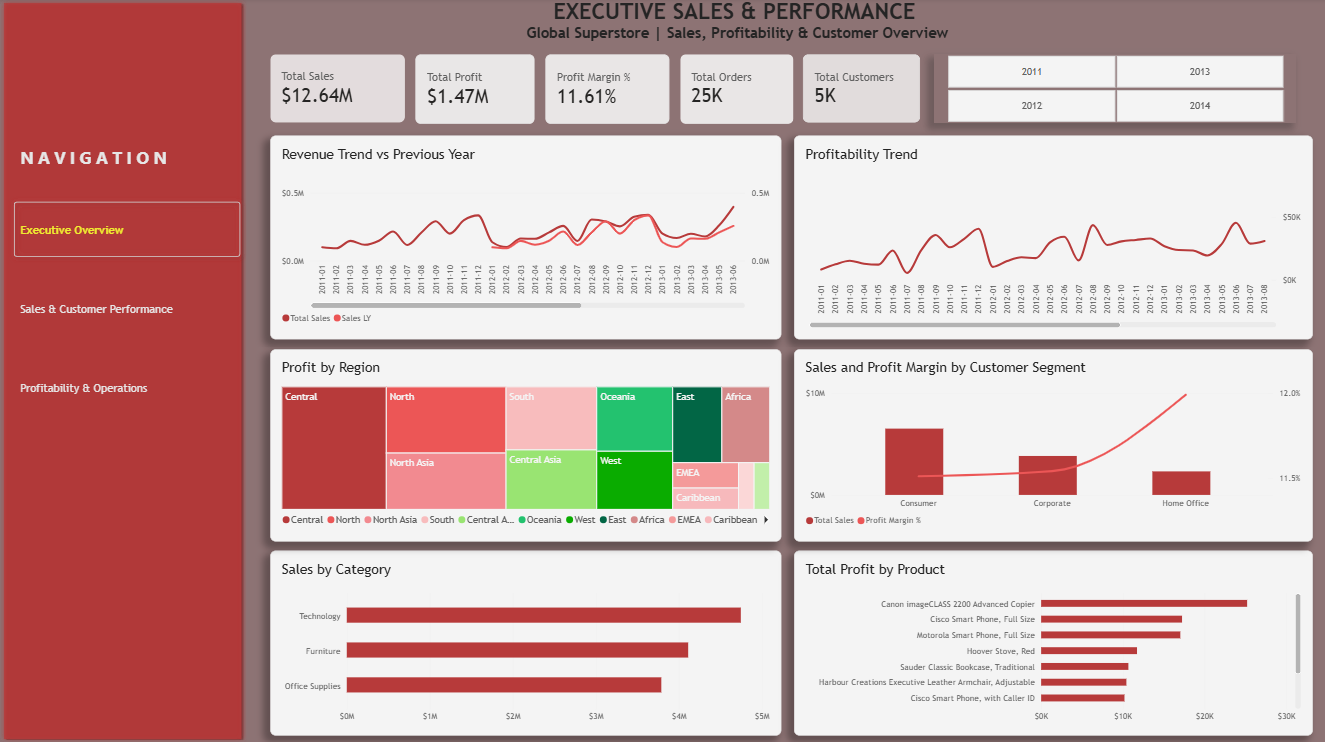

The dashboard page shown, as its layout file describes it:
{"tool":"powerbi","page":{"name":"Executive Overview","canvas":[1920,1080],"ordinal":0},"visuals":[{"type":"cardVisual","fields":{"Data":["_Measures.Total Sales"]},"box":[0,82.3,158.5,117.3],"z":0},{"type":"cardVisual","fields":{"Data":["_Measures.Total Profit"]},"box":[158.5,82.3,146.1,117.3],"z":1},{"type":"cardVisual","fields":{"Data":["_Measures.Profit Margin %"]},"box":[304.6,80.3,152.3,117.3],"z":2},{"type":"cardVisual","fields":{"Data":["_Measures.Total Orders"]},"box":[456.9,82.3,146.1,117.3],"z":3},{"type":"cardVisual","fields":{"Data":["_Measures.Total Customers"]},"box":[603.1,82.3,160.5,119.4],"z":4},{"type":"slicer","fields":{"Values":["DimDate.Year"]},"box":[763.6,82.3,574.3,142],"z":5},{"type":"lineChart","title":"Revenue Trend vs Previous Year","fields":{"Category":["DimDate.Year Month"],"Y":["_Measures.Total Sales"],"Y2":["_Measures.Sales LY"]},"box":[0,199.1,959.1,340.2],"z":6},{"type":"lineChart","title":"Profitability Trend","fields":{"Category":["DimDate.Year Month"],"Y":["_Measures.Total Profit"]},"box":[959.1,200.9,960.9,338.4],"z":7},{"type":"clusteredBarChart","title":"Sales by Category","fields":{"Y":["_Measures.Total Sales"],"Category":["DimProduct.Category"]},"box":[0,539.3,551.9,273.3],"z":8},{"type":"clusteredBarChart","title":"Profit by Region","fields":{"Category":["DimGeography.Region"],"Y":["_Measures.Total Profit"]},"box":[551.9,539.3,624.3,273.3],"z":9},{"type":"clusteredBarChart","fields":{"Category":["DimProduct.Product.Name"],"Y":["_Measures.Total Profit"]},"box":[0,812.5,1920.1,267.8],"z":10},{"type":"donutChart","title":"Sales by Customer Segment","fields":{"Category":["DimCustomer.Segment"],"Y":["_Measures.Total Sales"]},"box":[1176.3,539.3,743.8,273.3],"z":11},{"type":"textbox","box":[10.9,0,890.4,81.4],"z":14},{"type":"textbox","box":[1362.6,80.3,555.7,144.1],"z":15}]}

Visuals, with their boxes in screenshot pixels (x1, y1, x2, y2), scaled from the page's 1920x1080 canvas onto the 1325x742 screenshot:
cardVisual - _Measures.Total Sales: pyautogui.locateOnScreen(0, 57, 109, 137)
cardVisual - _Measures.Total Profit: pyautogui.locateOnScreen(109, 57, 210, 137)
cardVisual - _Measures.Profit Margin %: pyautogui.locateOnScreen(210, 55, 315, 136)
cardVisual - _Measures.Total Orders: pyautogui.locateOnScreen(315, 57, 416, 137)
cardVisual - _Measures.Total Customers: pyautogui.locateOnScreen(416, 57, 527, 139)
slicer - DimDate.Year: pyautogui.locateOnScreen(527, 57, 923, 154)
"Revenue Trend vs Previous Year" lineChart: pyautogui.locateOnScreen(0, 137, 662, 371)
"Profitability Trend" lineChart: pyautogui.locateOnScreen(662, 138, 1324, 371)
"Sales by Category" clusteredBarChart: pyautogui.locateOnScreen(0, 371, 381, 558)
"Profit by Region" clusteredBarChart: pyautogui.locateOnScreen(381, 371, 812, 558)
clusteredBarChart - DimProduct.Product.Name x _Measures.Total Profit: pyautogui.locateOnScreen(0, 558, 1324, 741)
"Sales by Customer Segment" donutChart: pyautogui.locateOnScreen(812, 371, 1324, 558)
textbox: pyautogui.locateOnScreen(8, 0, 622, 56)
textbox: pyautogui.locateOnScreen(940, 55, 1324, 154)
